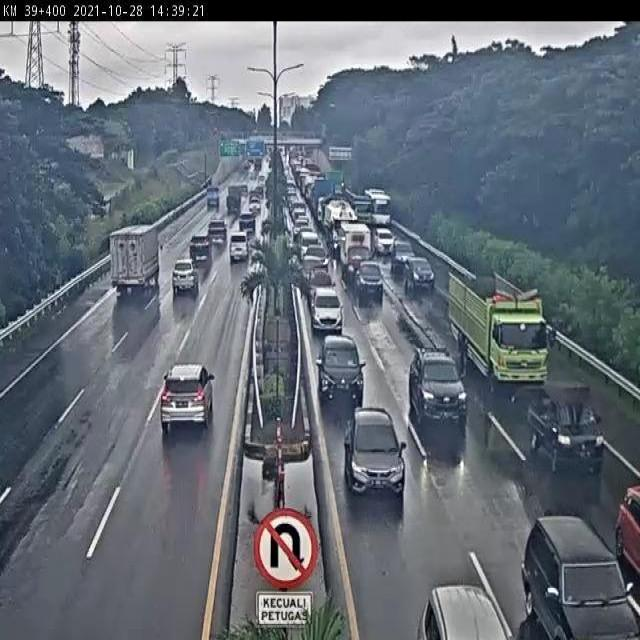big bus: (365, 187, 394, 228)
big truck: (445, 256, 555, 392), (105, 221, 166, 295), (336, 217, 374, 284), (347, 189, 374, 227)
car: (522, 505, 640, 640), (524, 386, 606, 474), (339, 394, 403, 494), (405, 332, 467, 429), (156, 351, 217, 445), (313, 328, 367, 403), (309, 282, 344, 334), (165, 255, 198, 302), (355, 257, 383, 304), (402, 252, 435, 289), (389, 234, 416, 274), (298, 256, 327, 291), (304, 240, 331, 275), (185, 235, 210, 265), (372, 224, 395, 255), (296, 230, 321, 258), (225, 235, 248, 265), (311, 266, 333, 294), (205, 220, 226, 249), (238, 211, 256, 232)
